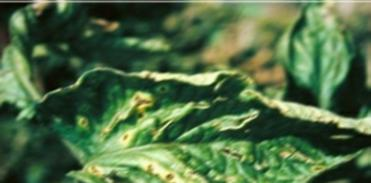Tomato Septoria leaf spot: (25, 62, 371, 183)
